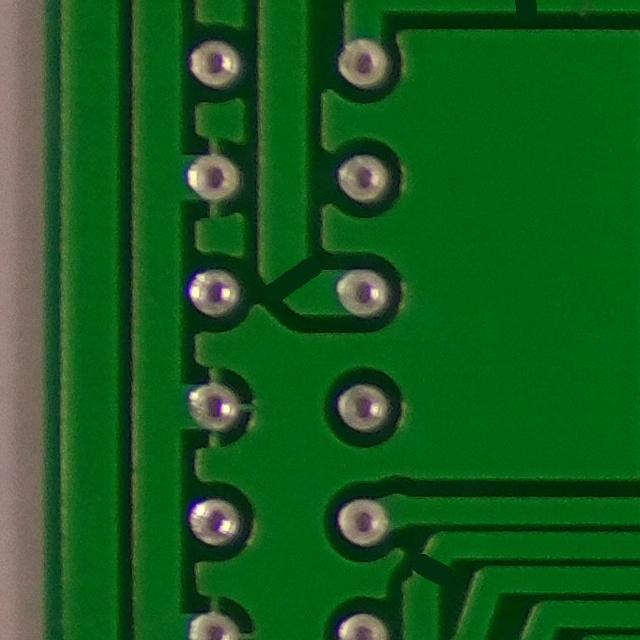open_circuit: (397, 537, 457, 601)
